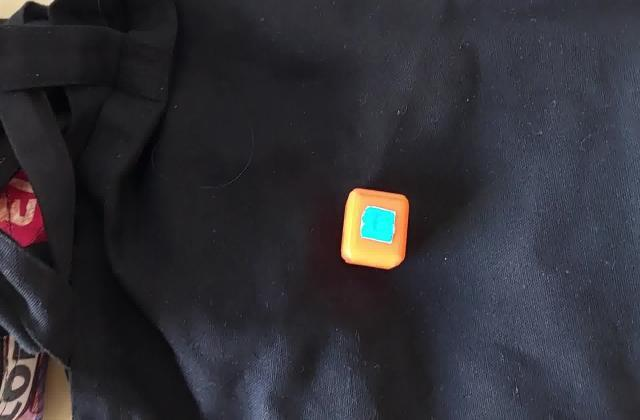blue: (368, 210, 392, 239)
sticker: (337, 184, 410, 273)
